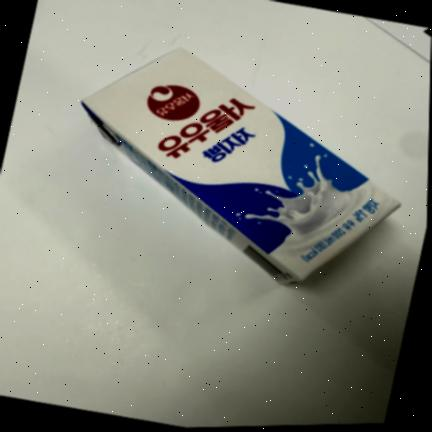milk_blue: (82, 48, 400, 285)
